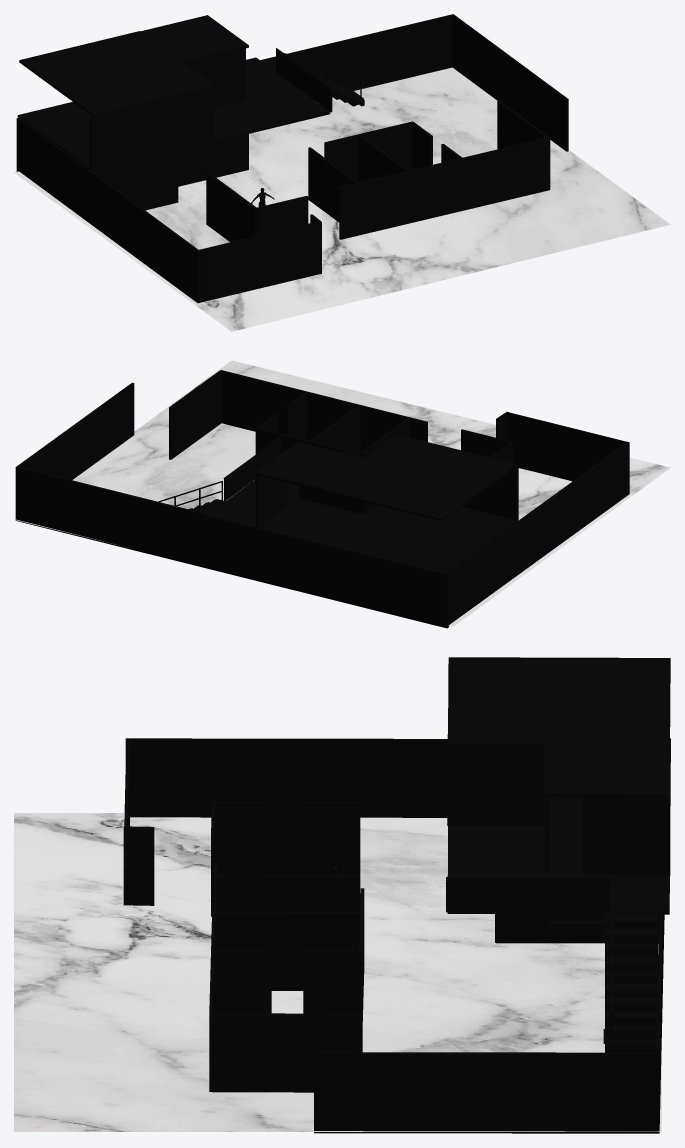
File: apartament.obj
3 views of the same model, one above another, from view 1: azimuth 30°, elevation 25°; view 2: azimuth 150°, elevation 25°; view 3: azimuth 270°, elevation 25° (orthographic). The views are drawn at different scales.
Visible parts, largest first — view 1: directionalLight6; view 2: directionalLight6; view 3: directionalLight6.
Boxes of the visible parts, left/top/right/bottom form: directionalLight6: left=14, top=14, right=670, bottom=331; directionalLight6: left=14, top=360, right=670, bottom=628; directionalLight6: left=14, top=657, right=670, bottom=1133.
Size of the model in its own units: 2544 by 615 by 2214.
Materials: 15 (1 with a texture image).
